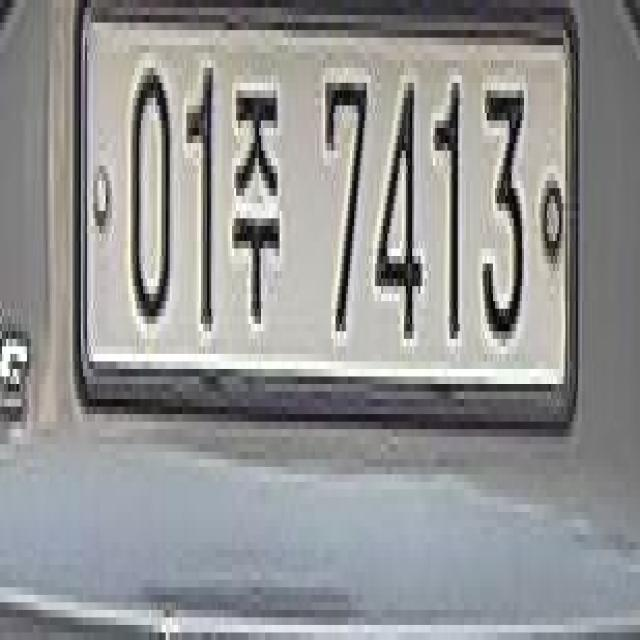illegal_plate: (75, 9, 588, 464)
